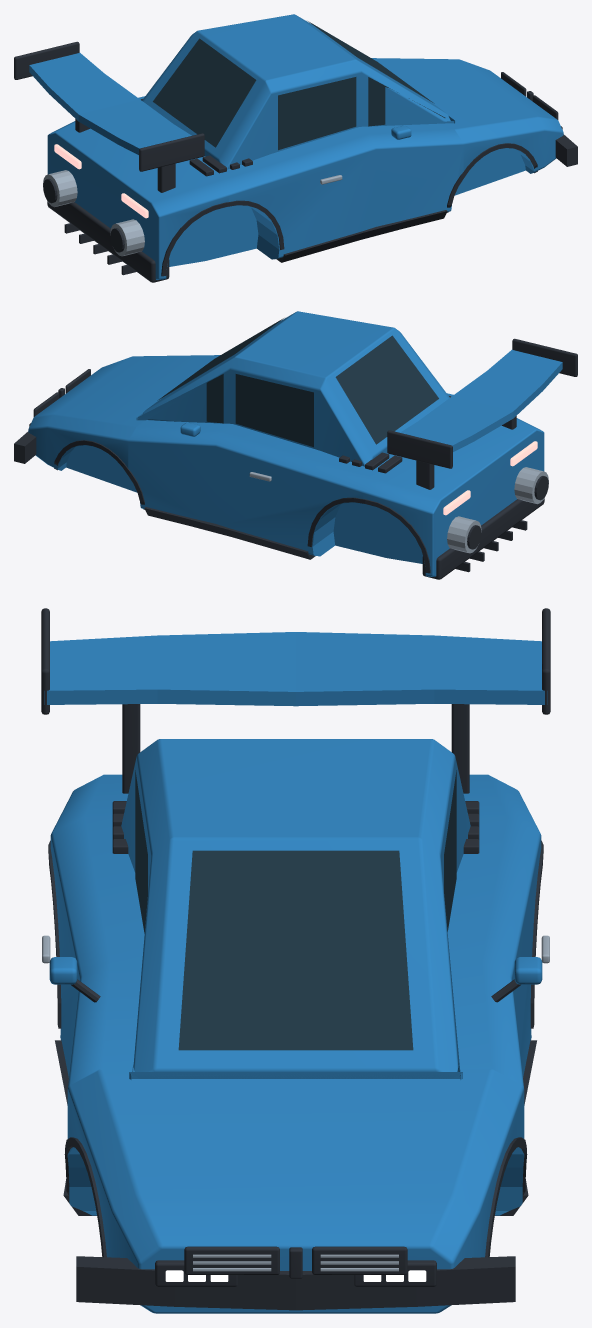
The model's file is tempest.glb.
3 renders of one model, top to bottom at view 1: azimuth 30°, elevation 25°; view 2: azimuth 150°, elevation 25°; view 3: azimuth 270°, elevation 25°, orthographic. The views are drawn at different scales.
Visible parts, largest first — view 1: body-paint, body-details; view 2: body-paint, body-details; view 3: body-paint, body-details.
Boxes of the visible parts, x1,y1,x2,y2 form: body-paint: (29, 14, 563, 279); body-details: (14, 21, 577, 282); body-paint: (28, 311, 562, 576); body-details: (14, 318, 577, 579); body-paint: (44, 632, 547, 1313); body-details: (41, 608, 550, 1310).
Bounding box in the file's own units: 1.41 × 0.4859 × 0.6811.
